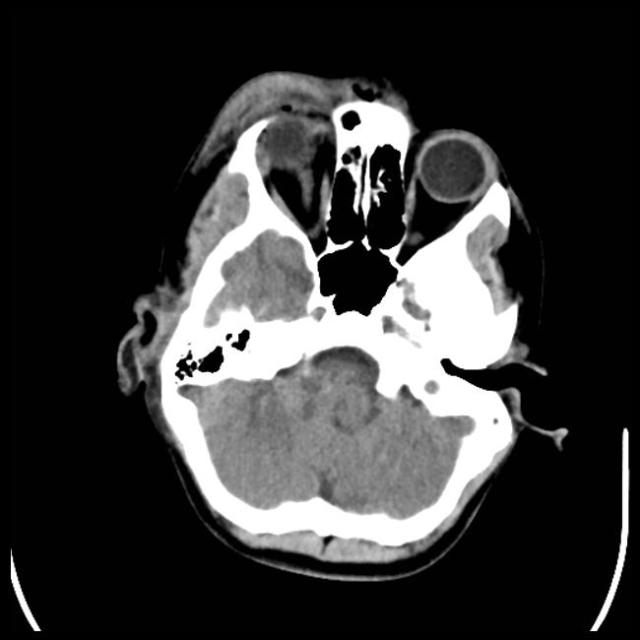lesion: (113, 68, 566, 579)
